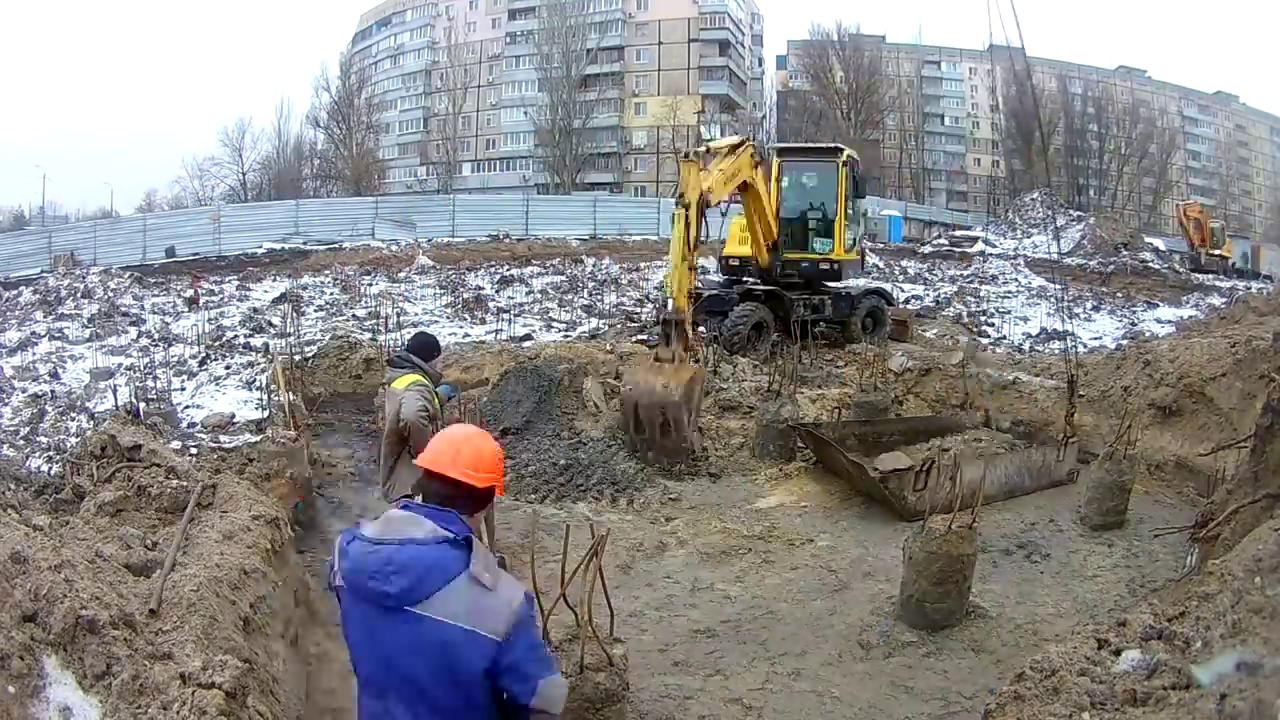helmet: (410, 421, 508, 501)
helmet-off: (405, 332, 440, 370)
helmet-on: (409, 419, 511, 527)
person: (329, 419, 571, 720), (379, 331, 444, 483)
